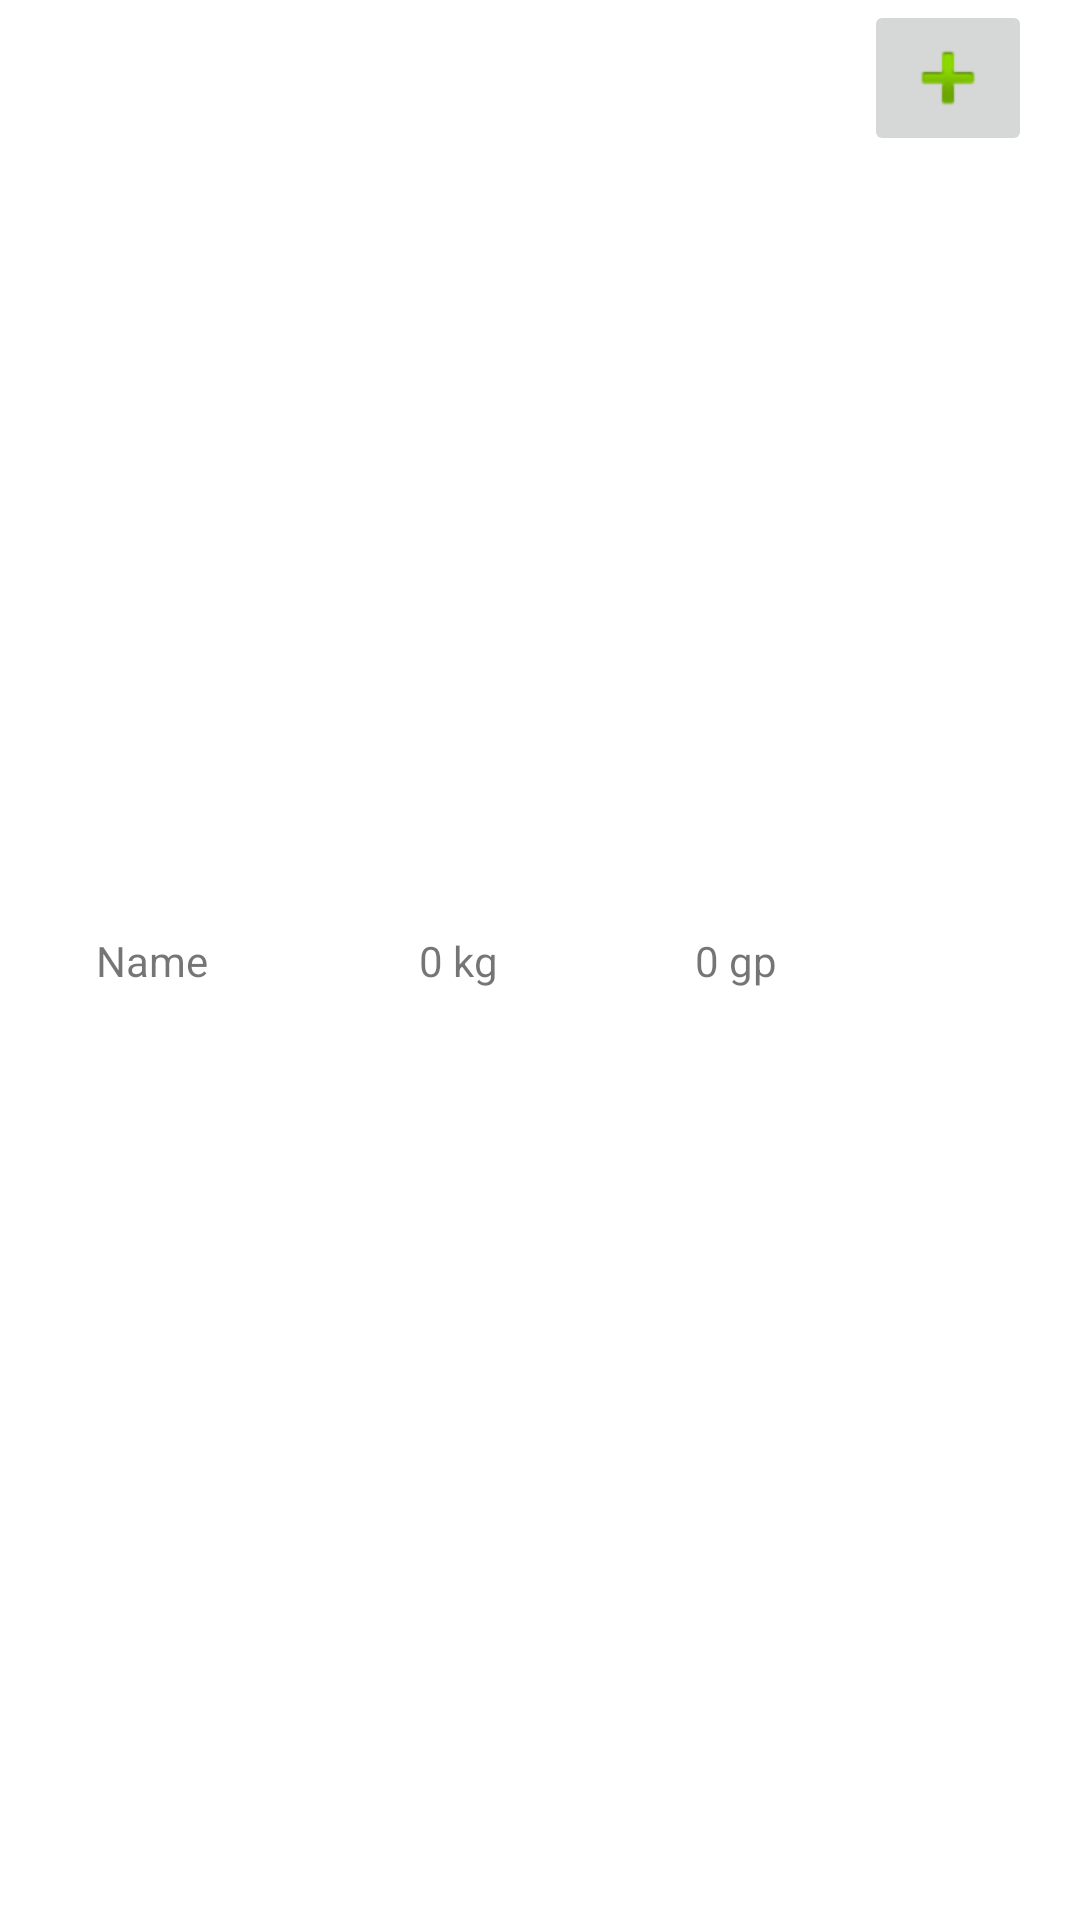

Point at icon controls on the screen. Image size 1080w x 1920h, points as (x,y).
add: (948,78)
